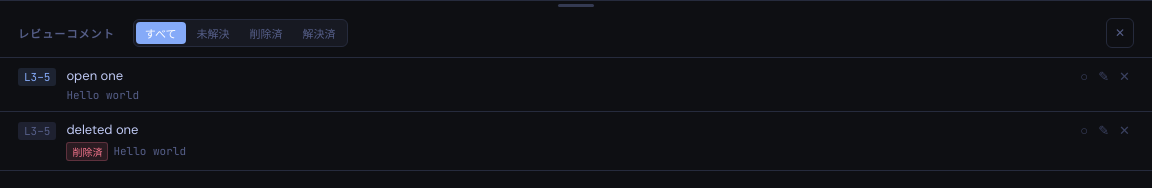
CommentsPanel › フィルタ（すべて / 未解決 / 削除済 / 解決済） › 未解決フィルタからは削除済が外れる
Click the button with test id "filter-open" at {"x": 213, "y": 33}, box [188, 22, 239, 44]
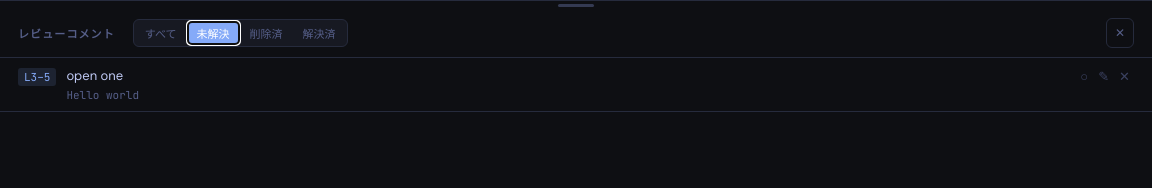
Expected: the text "open one" is shown, [66, 67, 123, 84]
Result: the number of list items with test id "comment-item" is 1 at [0, 58, 1151, 112]
